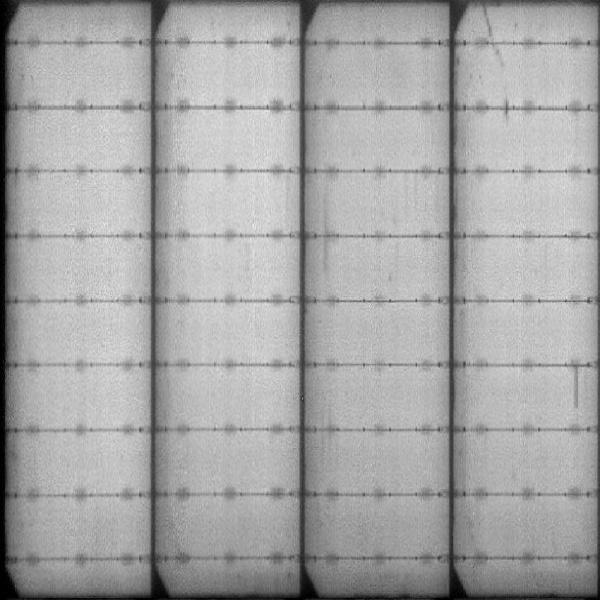scratch: (480, 3, 506, 71), (565, 368, 584, 411)
